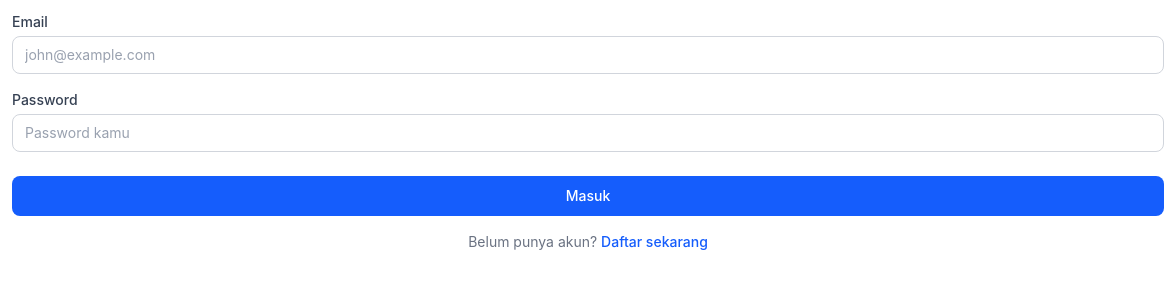
Test: LoginForm component › form validation › should clear validation error when user starts typing in the field
The image size is (1176, 307).
Step 1. Click the button "Masuk" → (588, 196), box [12, 176, 1164, 216]
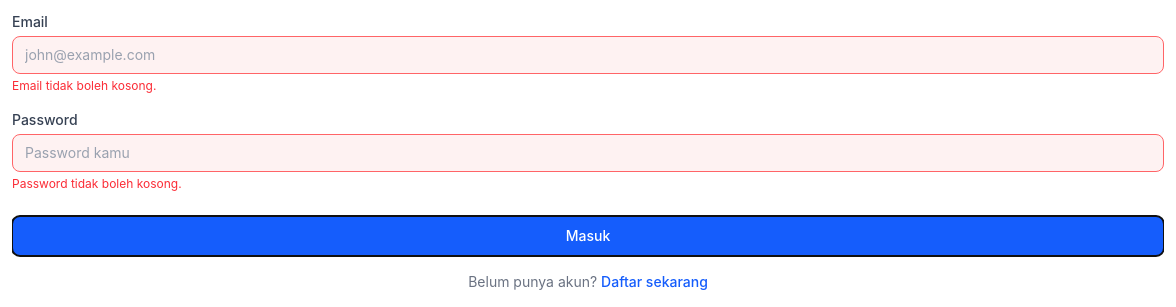
Expected: the text "Email tidak boleh kosong." is shown, [12, 78, 156, 93]
Step 2. Type "j" into the field labelled "Email" → (588, 55), box [12, 36, 1164, 74]
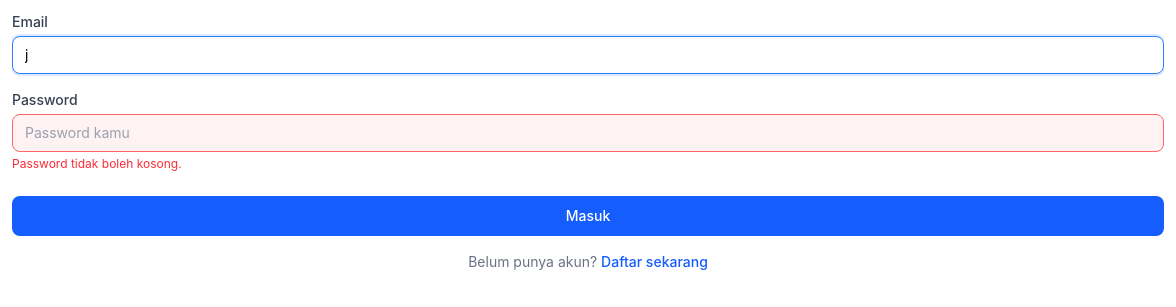
Expected: the text "Email tidak boleh kosong" is gone
